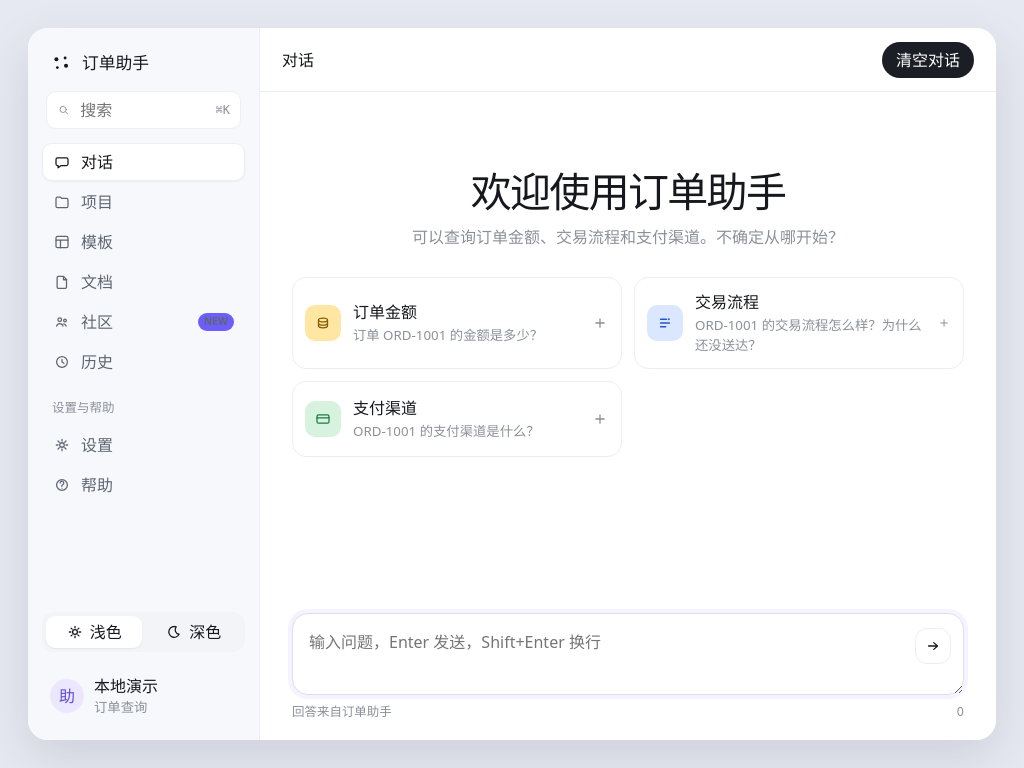
Test: 订单助手对话 › 快捷提问会把既定问题发给助手
The image size is (1024, 768).
Click the button "交易流程 ORD-1001 的交易流程怎么样？为什么还没送达？" at (799, 323), box [634,277,964,369]
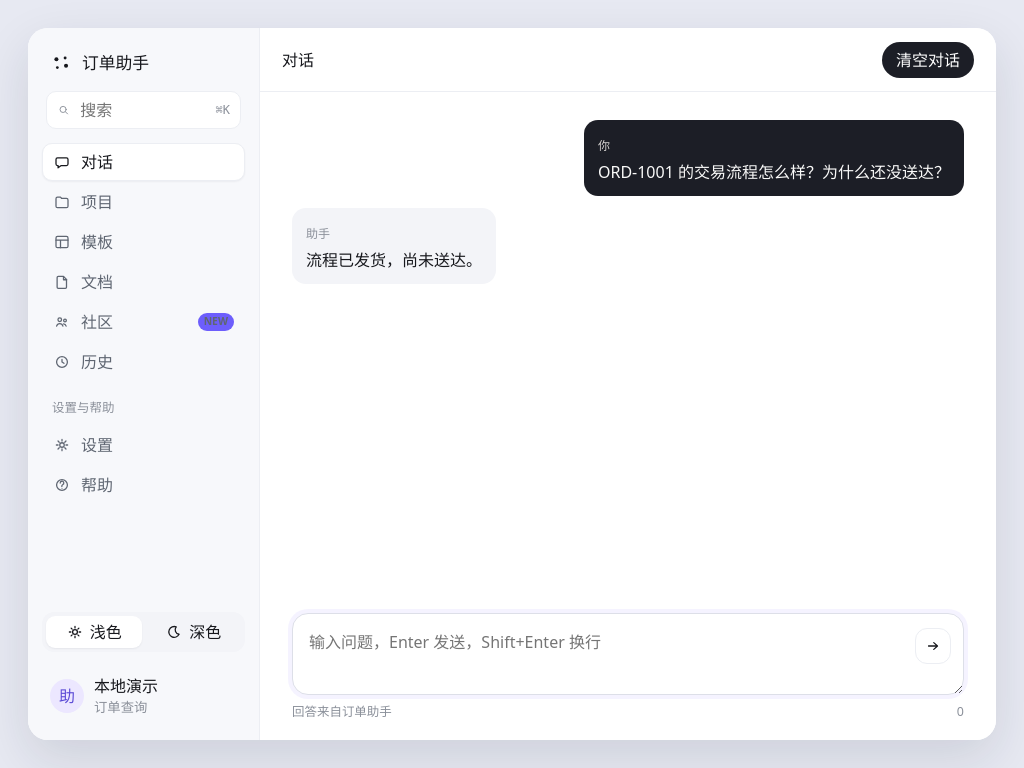
Expected: the text "流程已发货，尚未送达。" is shown, [306,248,482,272]
